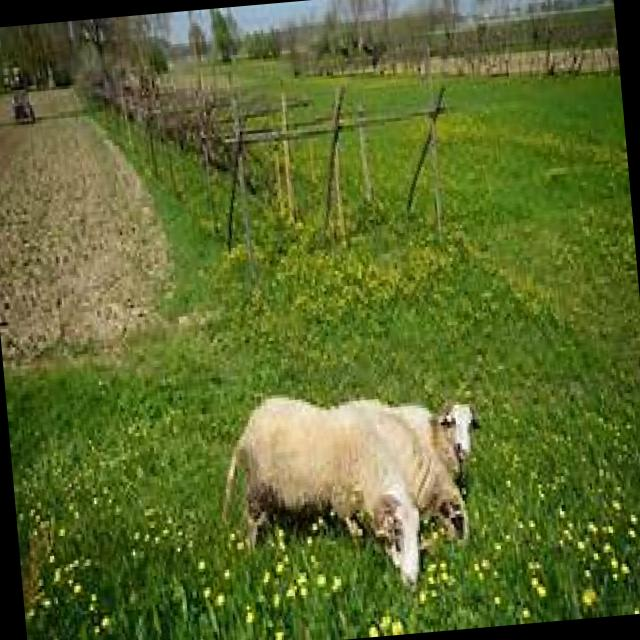animal: (212, 378, 492, 604)
